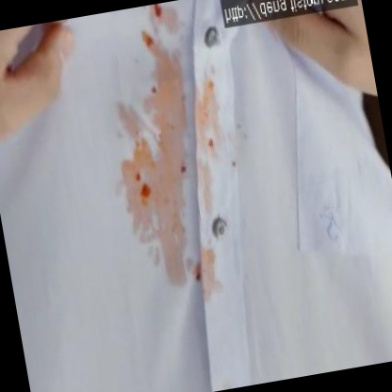kimchi: (98, 0, 272, 311), (136, 164, 162, 213), (189, 257, 215, 288), (198, 130, 221, 154), (146, 2, 168, 22), (173, 159, 189, 180), (227, 162, 239, 178), (147, 88, 160, 102), (142, 40, 152, 51)
